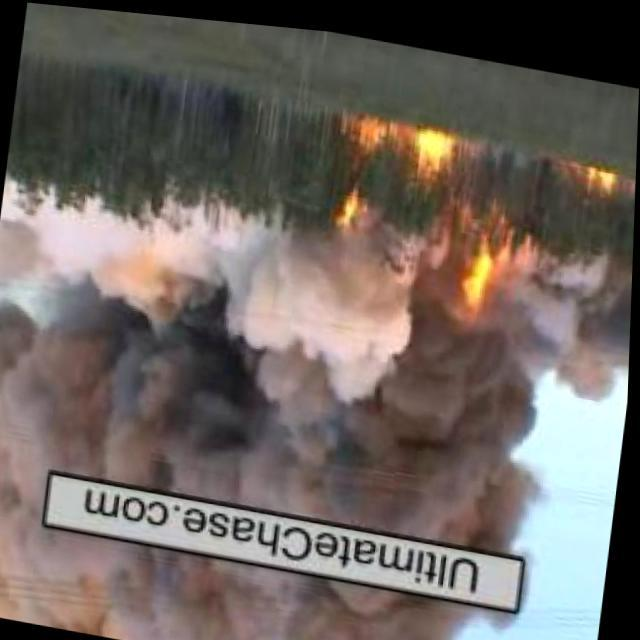fire: (332, 106, 378, 238), (409, 115, 467, 192), (453, 222, 495, 312), (578, 156, 624, 184)
